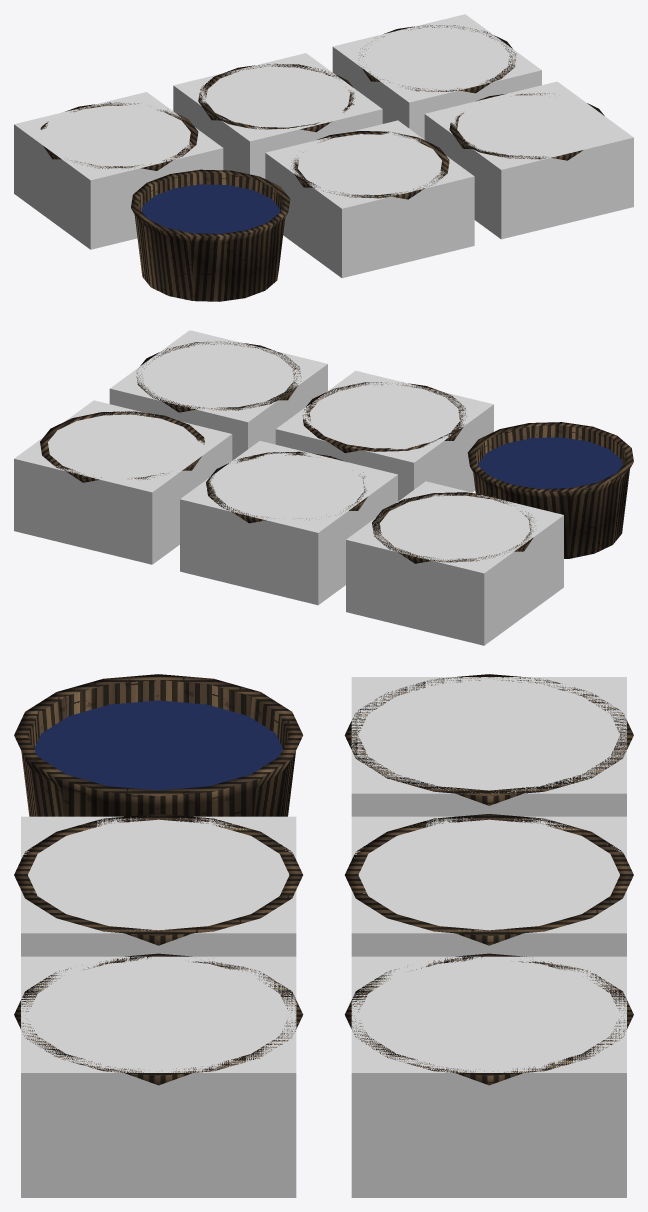
The model's file is dye_vats.glb.
The picture shows the model from 3 angles, top to bottom: view 1: azimuth 30°, elevation 25°; view 2: azimuth 150°, elevation 25°; view 3: azimuth 270°, elevation 25°; orthographic projection. The views are drawn at different scales.
Visible parts, largest first — view 1: Vat-convcolonly.001, Vat-convcolonly.002, Vat-convcolonly.003, Vats, Vat-convcolonly.005, Vat-convcolonly.004, Dye0; view 2: Vat-convcolonly.003, Vat-convcolonly.004, Vat-convcolonly.005, Vats, Vat-convcolonly.001, Vat-convcolonly.002, Dye0; view 3: Vat-convcolonly.002, Vat-convcolonly.005, Vats, Vat-convcolonly.003, Vat-convcolonly.004, Vat-convcolonly.001, Dye0.
Boxes of the visible parts, x1,y1,x2,y2 form: Vat-convcolonly.001: [265, 120, 474, 278]; Vat-convcolonly.002: [424, 81, 633, 239]; Vat-convcolonly.003: [14, 92, 223, 249]; Vats: [40, 25, 604, 301]; Vat-convcolonly.005: [332, 14, 541, 139]; Vat-convcolonly.004: [173, 53, 382, 178]; Dye0: [141, 184, 280, 233]; Vat-convcolonly.003: [346, 481, 563, 645]; Vat-convcolonly.004: [180, 441, 397, 605]; Vat-convcolonly.005: [14, 400, 232, 564]; Vats: [40, 341, 633, 563]; Vat-convcolonly.001: [275, 370, 493, 501]; Vat-convcolonly.002: [109, 330, 327, 460]; Dye0: [478, 437, 622, 488]; Vat-convcolonly.002: [21, 956, 296, 1197]; Vat-convcolonly.005: [351, 956, 626, 1197]; Vats: [14, 674, 633, 1085]; Vat-convcolonly.003: [351, 677, 626, 816]; Vat-convcolonly.004: [351, 816, 626, 956]; Vat-convcolonly.001: [21, 816, 296, 956]; Dye0: [34, 700, 282, 790].
Size of what is drawn, in the model's own units: 6.9 by 1 by 4.5.
Materials: 5 (1 with a texture image).
